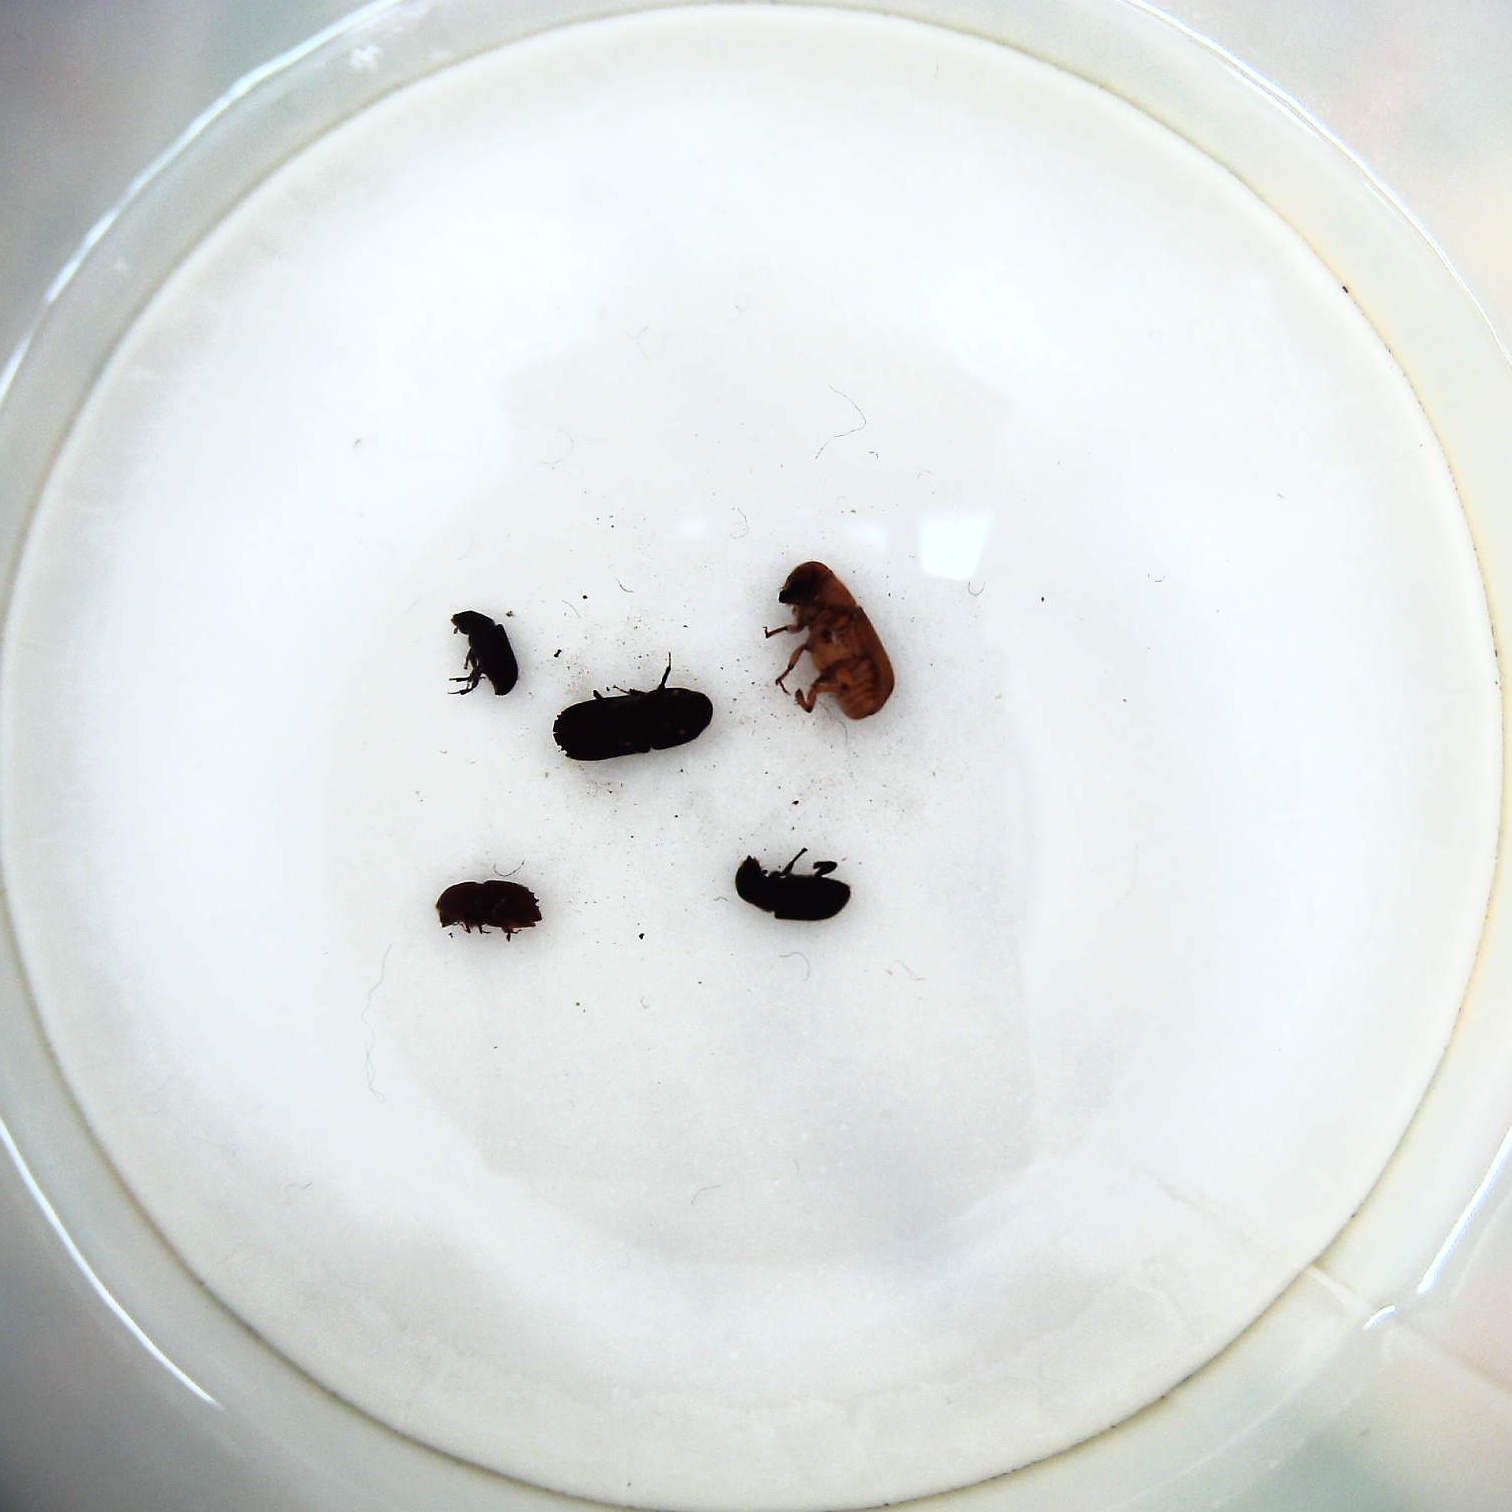Boerner: (548, 666, 720, 766)
Leconte: (759, 561, 903, 727)
armandi: (727, 846, 858, 928)
coleoptera: (446, 605, 522, 701)
linnaeus: (432, 876, 548, 942)
